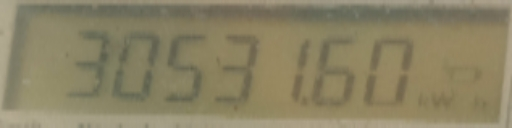0: (362, 30, 412, 117), (117, 25, 159, 107)
1: (269, 22, 311, 104)
3: (65, 22, 107, 104), (219, 24, 261, 106)
5: (165, 22, 207, 104)
6: (317, 27, 359, 109)
d: (300, 93, 312, 109)
